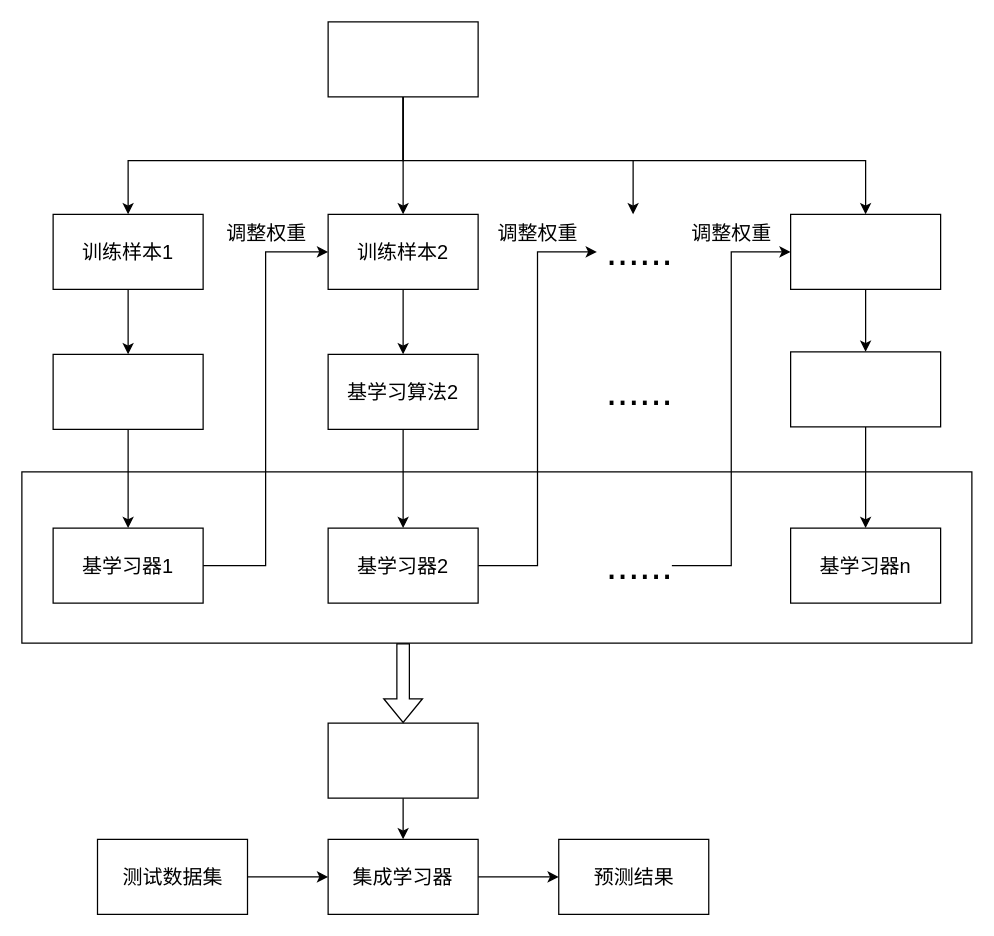
The diagram is 994 pixels wide and 936 high, and some of its shapes have lost their labels. The shapes that lost their labels are listed below. From the top down, each one's centre as x and y in pixels, then its label:
point (402, 59): 训练数据集
point (865, 251): 训练样本n
point (127, 391): 基学习算法1
point (865, 389): 基学习算法n
point (402, 760): 结合算法
